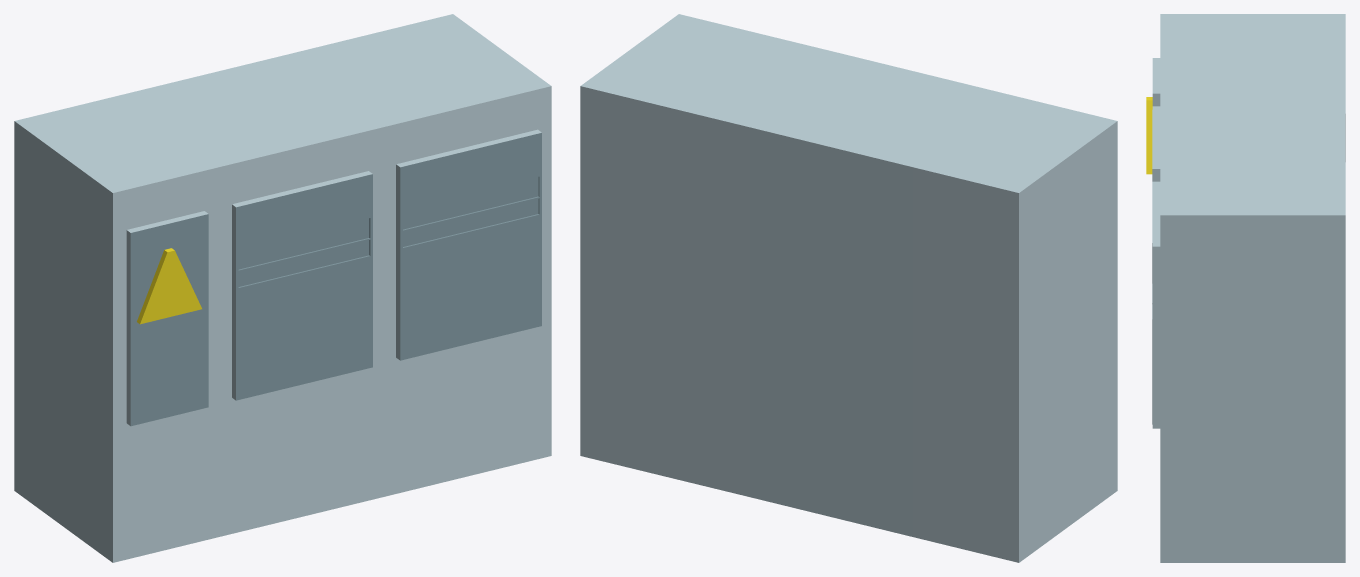
The model's file is PowerGenerator_02.fbx.
3 renders of one model, left to right at view 1: azimuth 30°, elevation 25°; view 2: azimuth 150°, elevation 25°; view 3: azimuth 270°, elevation 25°, orthographic. The views are drawn at different scales.
Visible parts, largest first — view 1: PowerGenerator_02; view 2: PowerGenerator_02; view 3: PowerGenerator_02.
Part boxes in pixels (box(x1,y1,x2,y2)): PowerGenerator_02: box(14, 14, 551, 562); PowerGenerator_02: box(580, 14, 1117, 562); PowerGenerator_02: box(1146, 14, 1345, 562).
Size of the model in its own units: 895 by 721 by 375.
